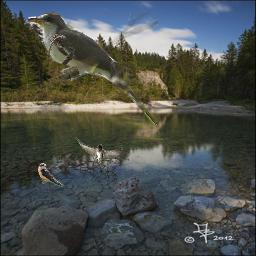Cuckoo: (27, 13, 158, 125)
Swallow: (75, 137, 123, 166), (38, 162, 64, 187)
